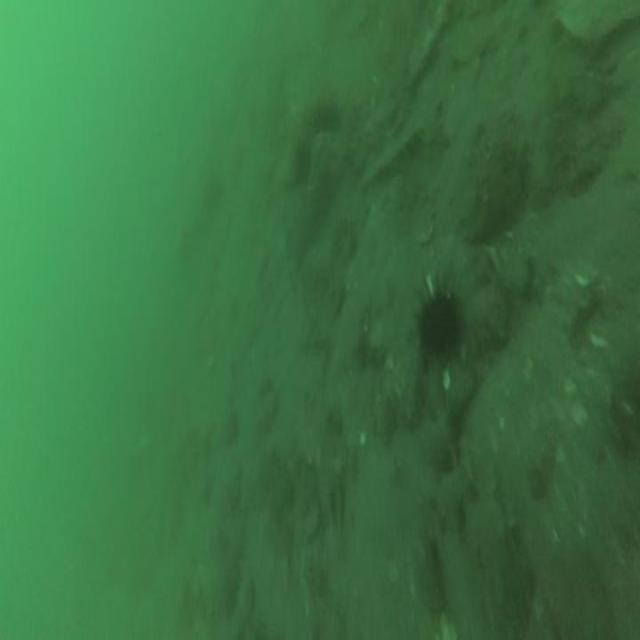echinus: (422, 290, 460, 356), (312, 103, 344, 131), (293, 146, 311, 180)
scallop: (442, 372, 452, 391)
